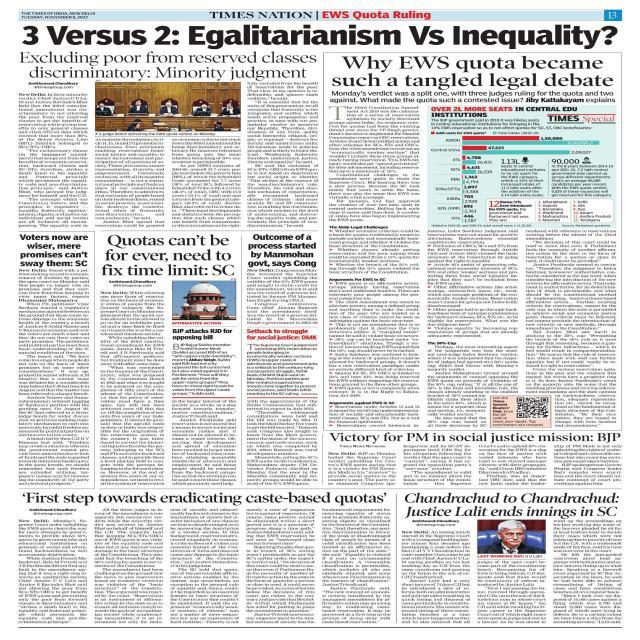Article: (326, 53, 619, 429), (15, 51, 321, 230), (14, 490, 393, 626), (96, 232, 239, 488), (399, 491, 626, 626), (15, 231, 92, 487), (243, 232, 320, 487), (325, 430, 625, 488)
Body: (17, 269, 90, 486), (524, 229, 618, 394), (100, 290, 166, 487), (328, 281, 422, 398), (328, 106, 422, 222), (246, 82, 318, 228), (16, 92, 90, 230), (428, 229, 520, 338), (244, 508, 316, 624), (169, 508, 240, 625), (94, 507, 164, 625), (322, 507, 392, 624), (18, 518, 88, 624), (553, 518, 623, 624), (171, 136, 243, 230), (400, 530, 470, 624), (93, 138, 166, 228), (246, 400, 320, 486), (171, 400, 238, 486), (476, 560, 547, 624), (428, 345, 518, 393), (329, 228, 422, 274), (246, 268, 319, 325), (246, 342, 318, 396), (170, 342, 236, 396), (477, 443, 549, 486), (402, 443, 472, 486), (554, 444, 624, 486), (328, 452, 398, 486), (328, 405, 421, 427), (554, 394, 616, 427), (427, 394, 488, 427)
Date: (20, 15, 90, 19)
Heading: (22, 24, 620, 50), (332, 56, 618, 90), (19, 52, 318, 80), (404, 491, 620, 519), (98, 234, 236, 277), (22, 491, 387, 506), (329, 431, 622, 443), (18, 232, 92, 268), (246, 233, 318, 267)
Highlights: (328, 91, 616, 105), (489, 396, 552, 428), (246, 328, 320, 341), (172, 327, 234, 341)
Image: (430, 130, 618, 228), (96, 82, 240, 132), (172, 282, 235, 320), (478, 519, 546, 554), (431, 106, 579, 118)
Name: (208, 10, 312, 20)
